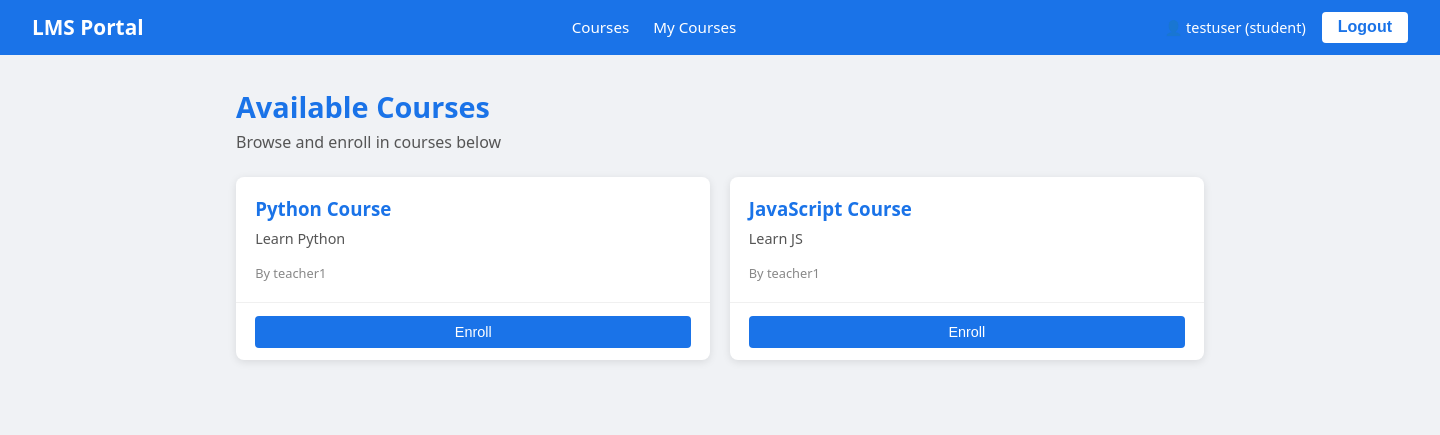
Test: Courses Page › shows success message after enrollment
This screenshot has width=1440, height=435.
What coordinates should you click on to do the following:
click the button "Enroll" below "Learn Python"
I would click on:
 (473, 332)
Its box is [255,316,691,348].
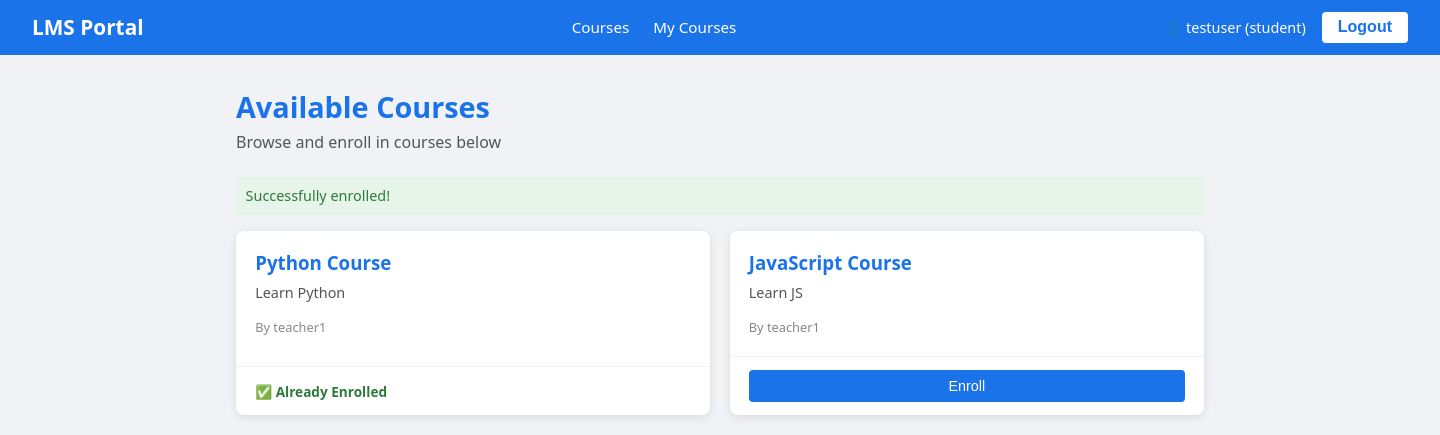
expect the text "Successfully enrolled!" is shown: met, box [236,177,1204,215]
